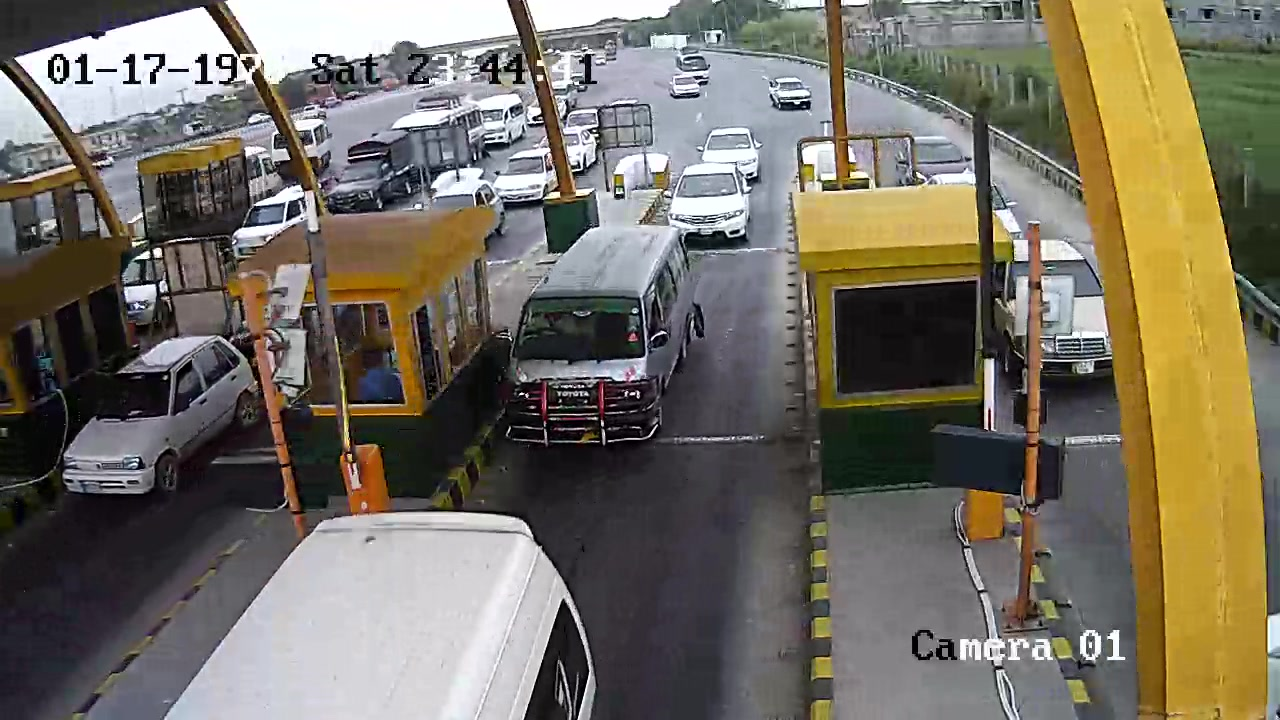F3: (495, 221, 705, 459)
